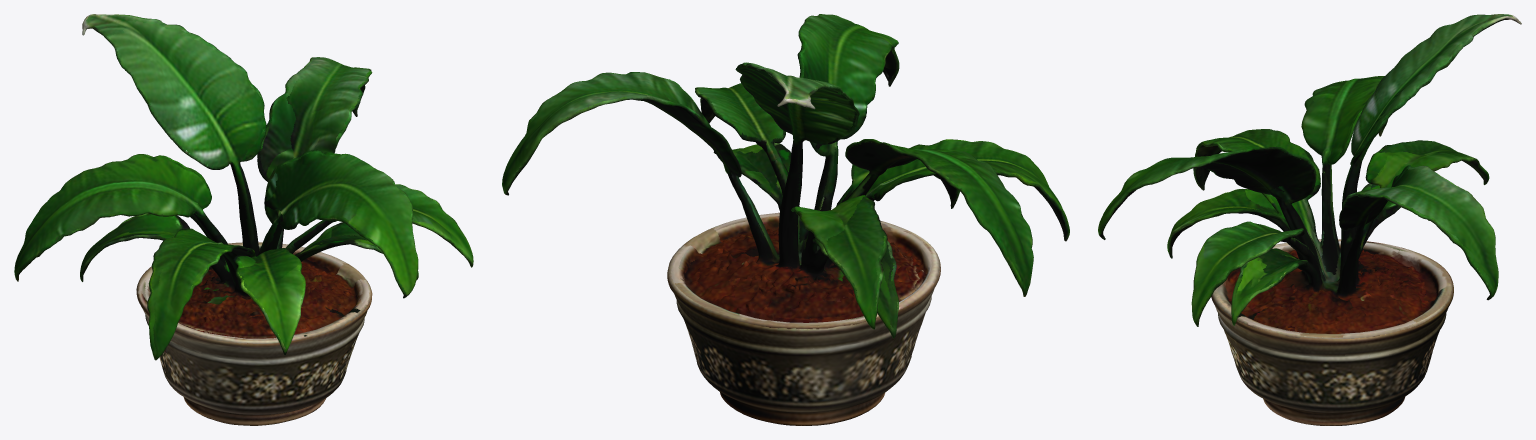
File: goodcase0304_168.glb
3 views of the same model, side by side, from view 1: azimuth 30°, elevation 25°; view 2: azimuth 150°, elevation 25°; view 3: azimuth 270°, elevation 25° (orthographic). The views are drawn at different scales.
Parts seen in each view (by area): view 1: object.001; view 2: object.001; view 3: object.001.
Part boxes in pixels (left/top/right/bottom): object.001: left=14, top=14, right=473, bottom=425; object.001: left=502, top=14, right=1069, bottom=425; object.001: left=1098, top=14, right=1521, bottom=425.
Size of the model in its own units: 0.9048 by 0.7396 by 0.8189.
Materials: 1 (1 with a texture image).
